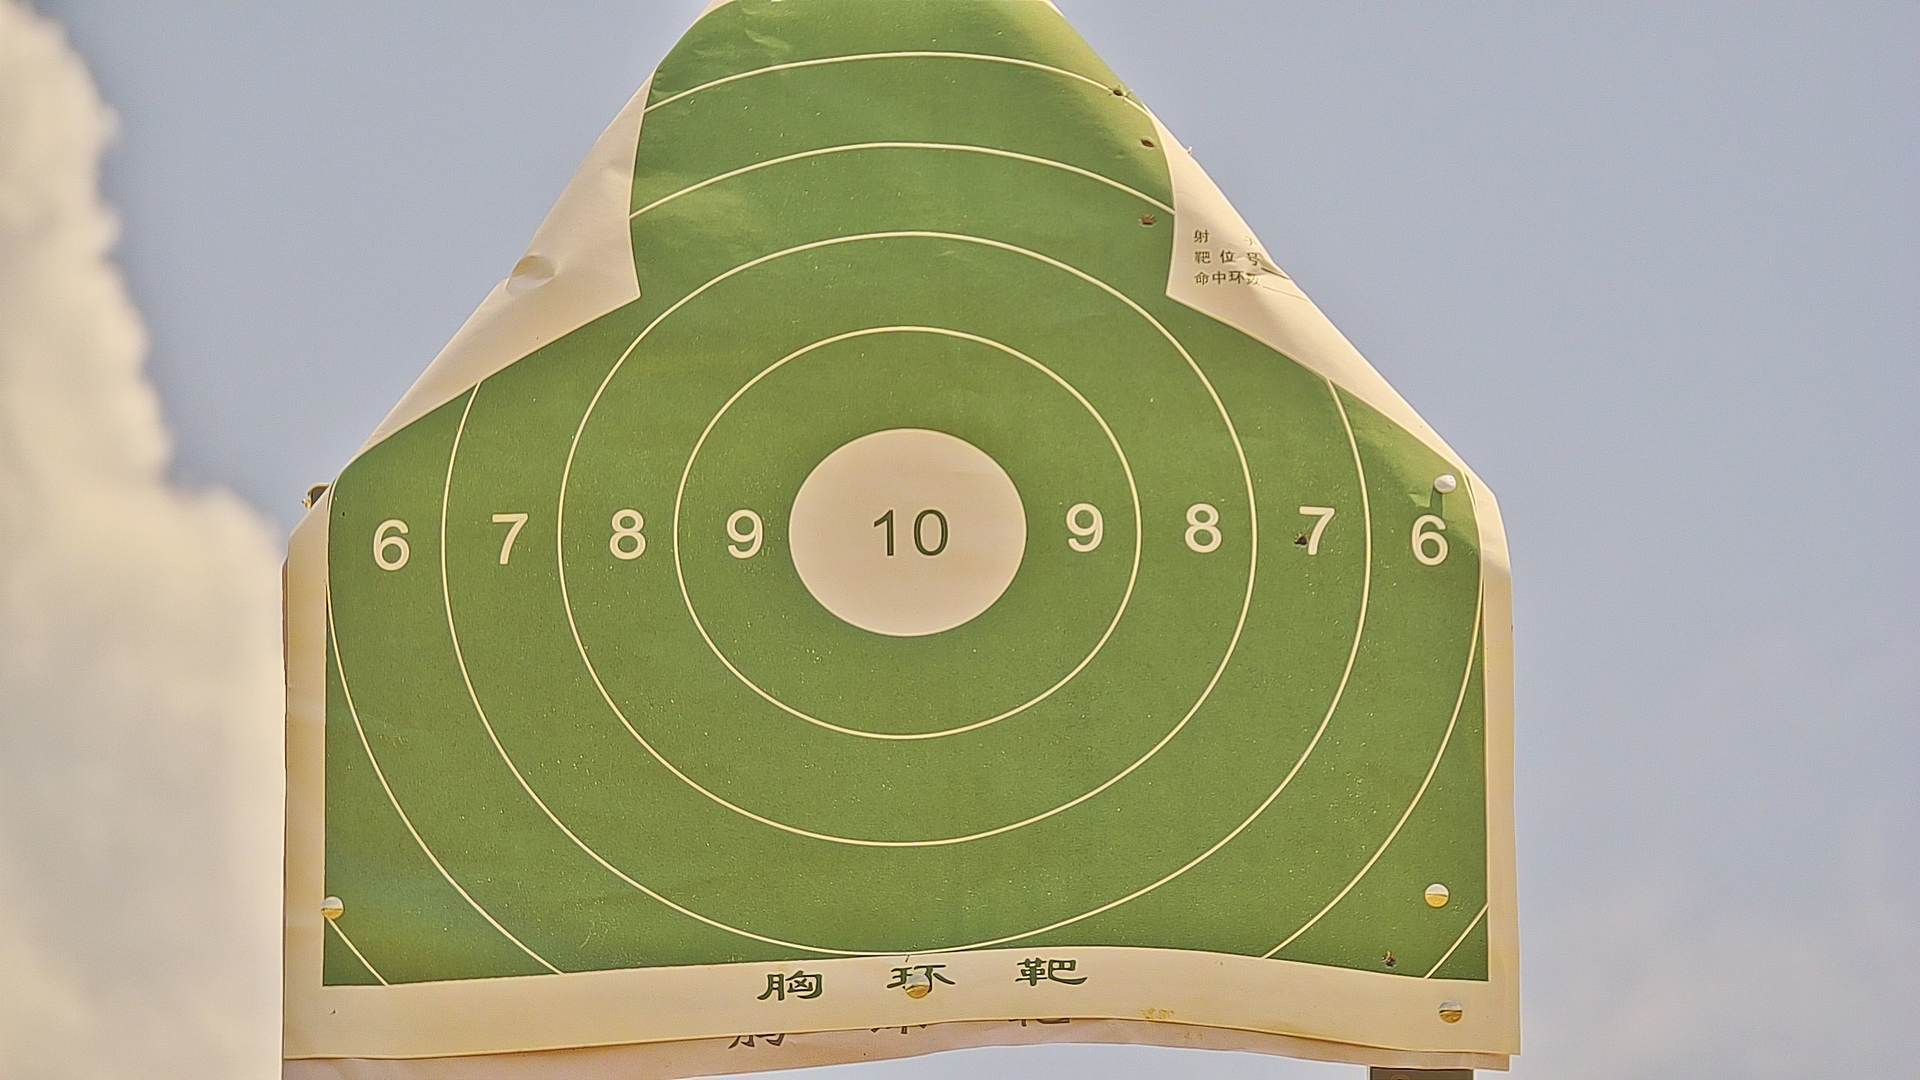hole: (1370, 945, 1400, 975), (1294, 525, 1312, 553), (1138, 208, 1160, 231), (1138, 132, 1155, 157), (1106, 84, 1124, 102)
kernel: (902, 530, 909, 538)
target: (330, 5, 1484, 982)
ten: (789, 425, 1026, 644)
